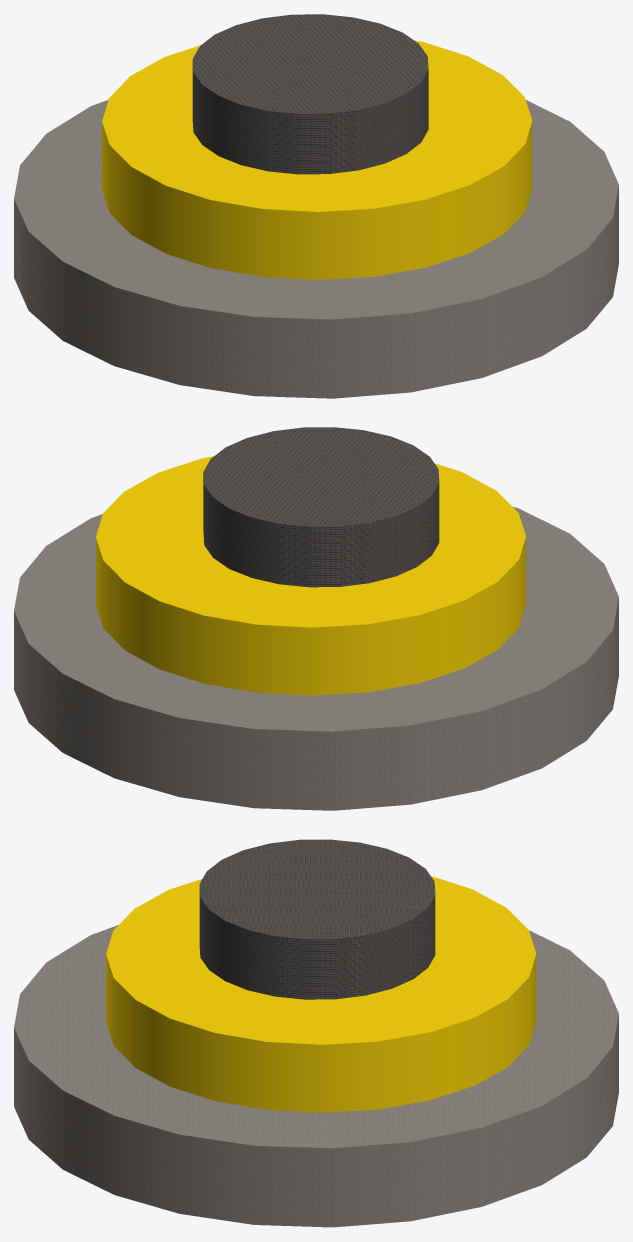
The model's file is cake.gltf.
3 views of the same model, one above another, from view 1: azimuth 30°, elevation 25°; view 2: azimuth 150°, elevation 25°; view 3: azimuth 270°, elevation 25° (orthographic).
Bounding box in the file's own units: 3.06 × 1.16 × 3.06.
Materials: 3 (2 with a texture image).
